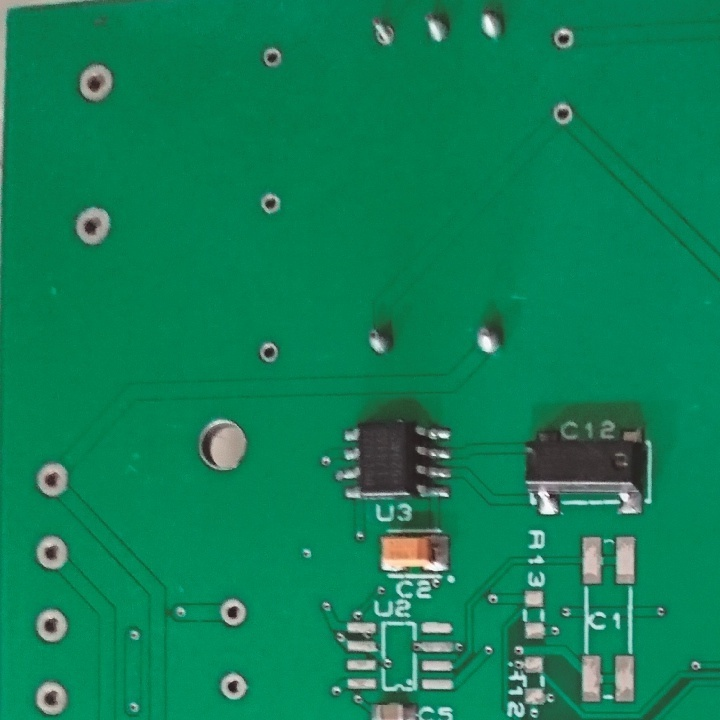F: (68, 204, 119, 246), (74, 61, 117, 105), (33, 459, 73, 503), (31, 679, 72, 718), (33, 605, 70, 646), (33, 535, 70, 575), (216, 670, 251, 706), (369, 15, 399, 49), (219, 596, 246, 631), (548, 100, 579, 126), (254, 338, 279, 367), (259, 43, 284, 72), (551, 27, 577, 52), (257, 192, 284, 215)
